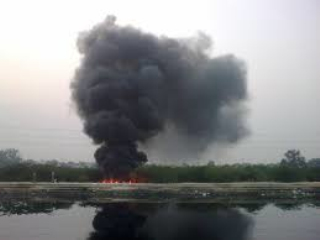fire: (98, 175, 137, 187)
smoke: (71, 16, 232, 178)
